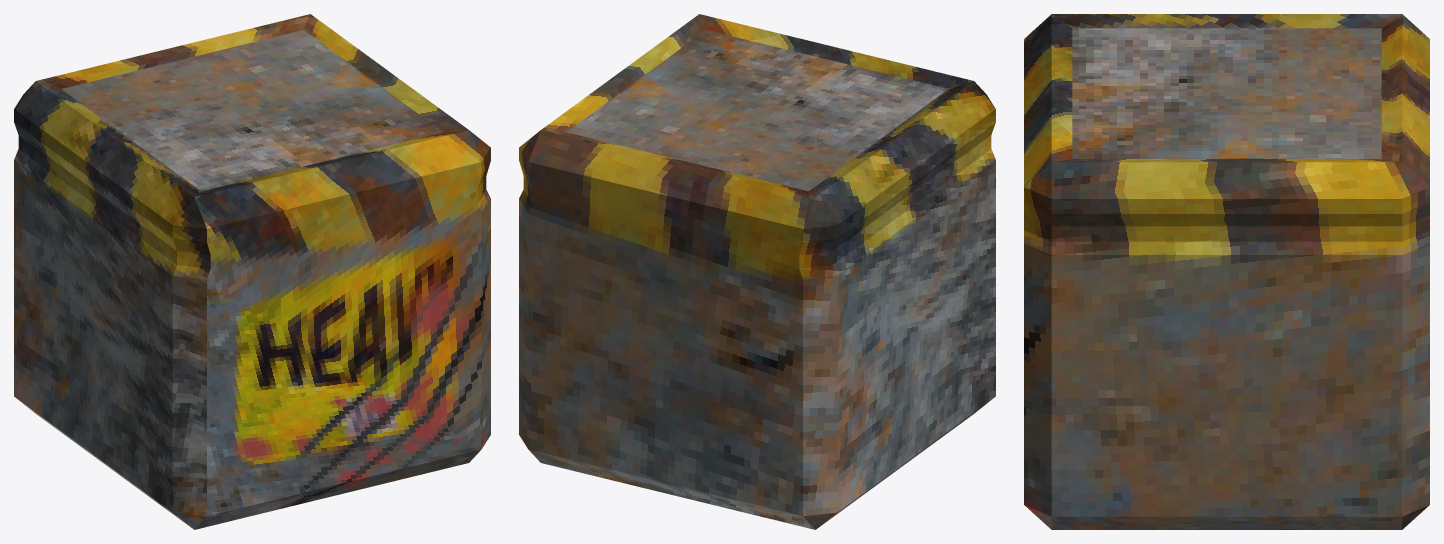
The model's file is Metal Crate.gltf.
3 renders of one model, left to right at view 1: azimuth 30°, elevation 25°; view 2: azimuth 150°, elevation 25°; view 3: azimuth 270°, elevation 25°, orthographic. The views are drawn at different scales.
Parts seen in each view (by area): view 1: Cube; view 2: Cube; view 3: Cube.
Part boxes in pixels (x1,y1,x2,y2): Cube: (14,14,490,529); Cube: (519,14,995,529); Cube: (1024,14,1429,529).
Bounding box in the file's own units: 2 × 2 × 2.
1 material, 1 textured.
